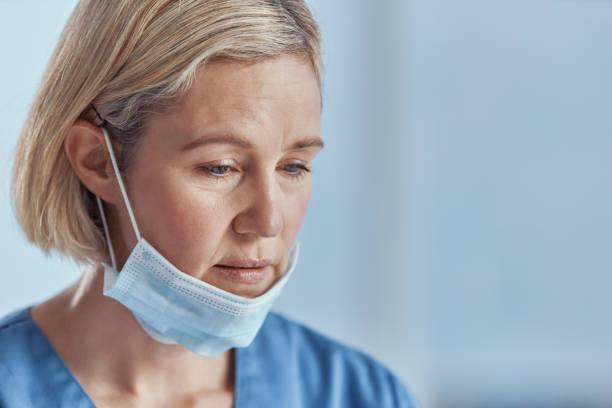mask_weared_incorrect: (100, 25, 327, 352)
